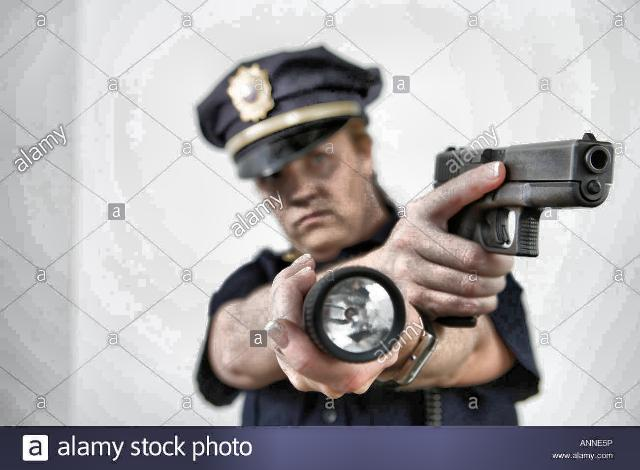pistol: (433, 131, 614, 327)
